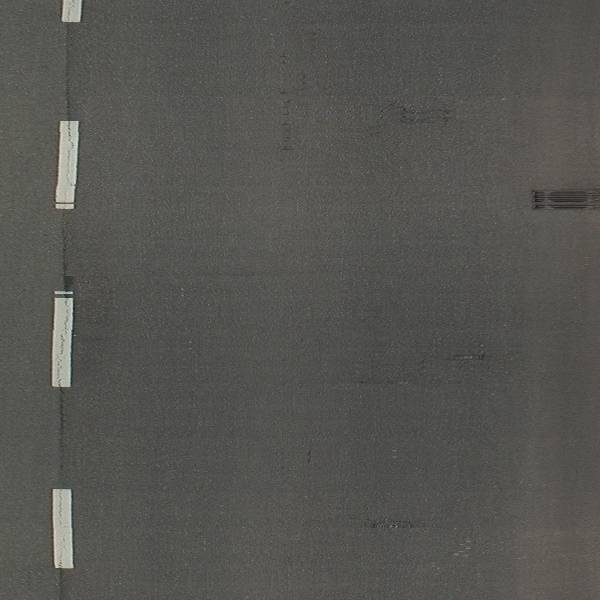road_damage: (54, 210, 79, 290), (396, 103, 458, 135), (275, 97, 303, 165), (363, 512, 428, 535)
